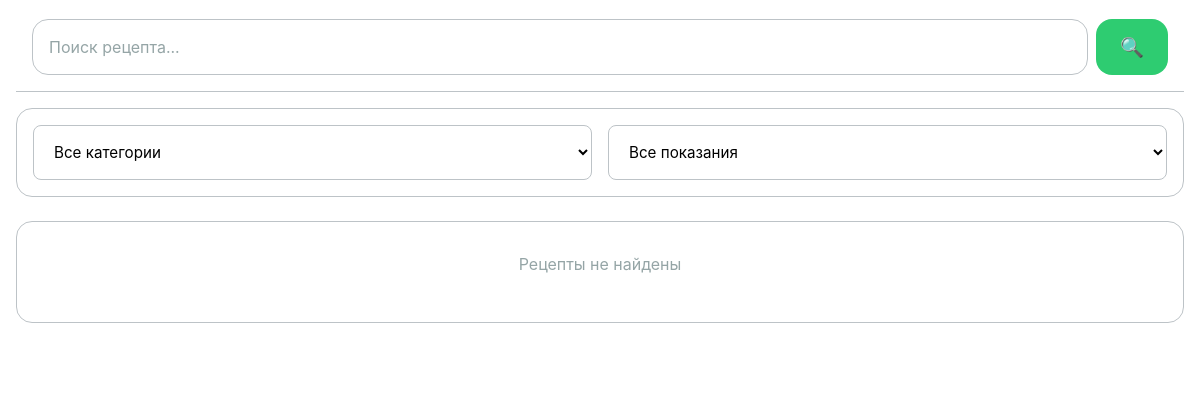
Test: RecipesPage › shows a search error message when search fails
The width and height of the screenshot is (1201, 410).
In the field with placeholder "Поиск рецепта...": (560, 47) [32, 19, 1088, 75], type "лопух"
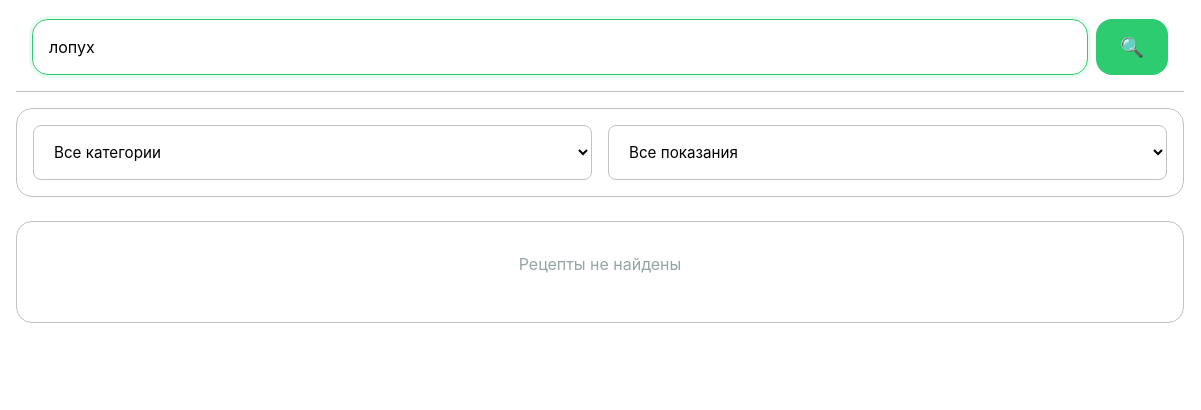
Click the button "🔍": (1132, 47) [1096, 19, 1168, 75]
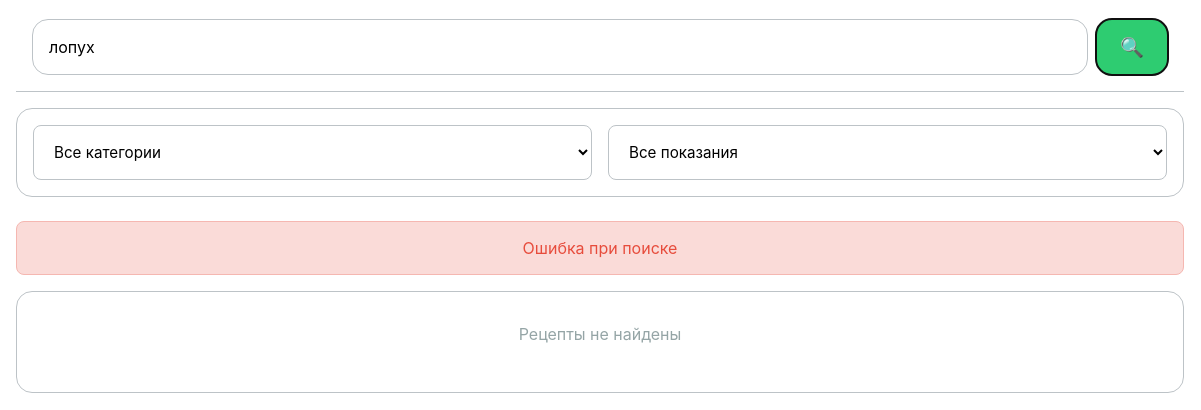
expect the text "Ошибка при поиске" is shown: met, box [16, 221, 1184, 275]
